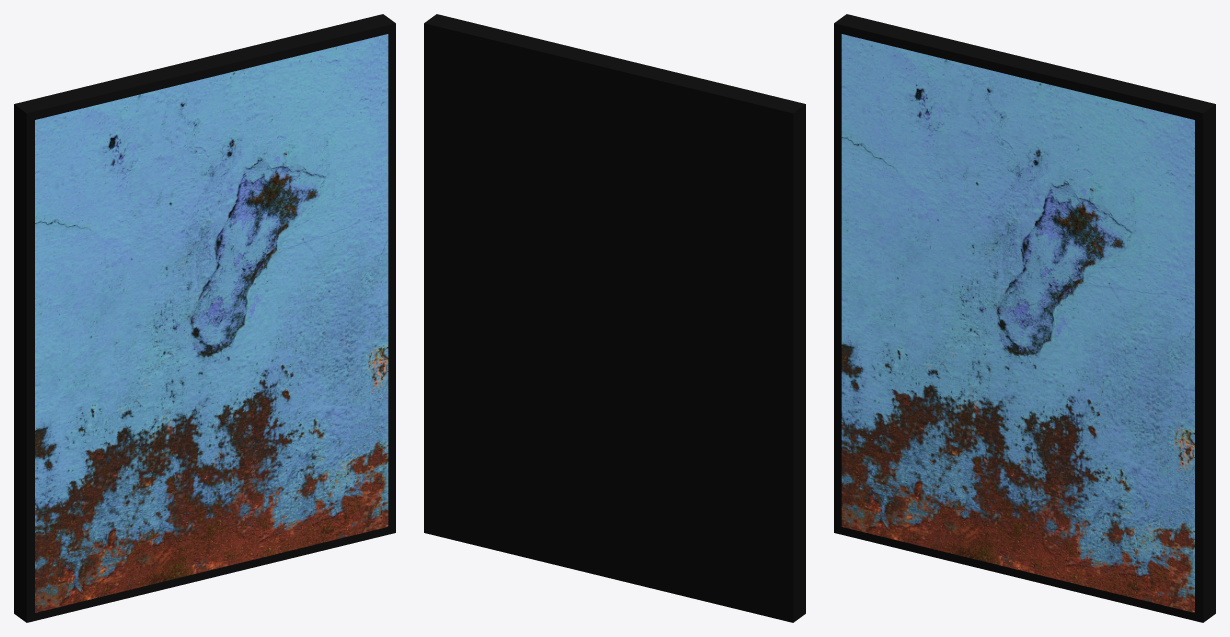
Rendered from imprint.glb.
3 views of the same model, side by side, from view 1: azimuth 30°, elevation 25°; view 2: azimuth 150°, elevation 25°; view 3: azimuth 330°, elevation 25° (orthographic).
Size of the model in its own units: 0.637 by 0.8402 by 0.0392.
2 materials, 1 textured.
